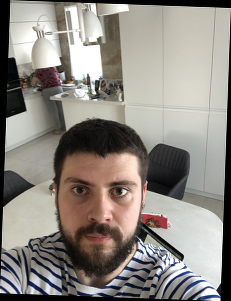without_mask: (58, 166, 140, 277)
